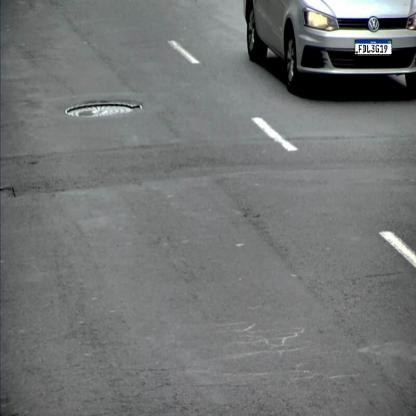PlacaM: (355, 39, 392, 55)
